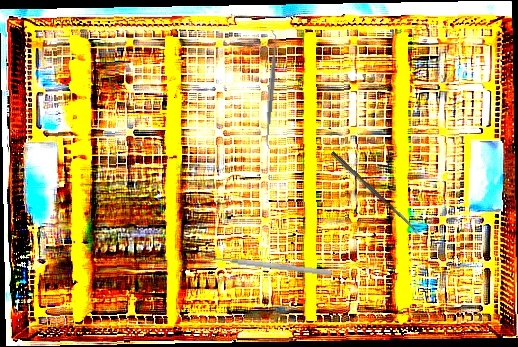Pusher: (201, 253, 333, 277)
Spatula Surgical: (259, 30, 283, 149)
Surgical Spoon: (330, 151, 421, 236)
